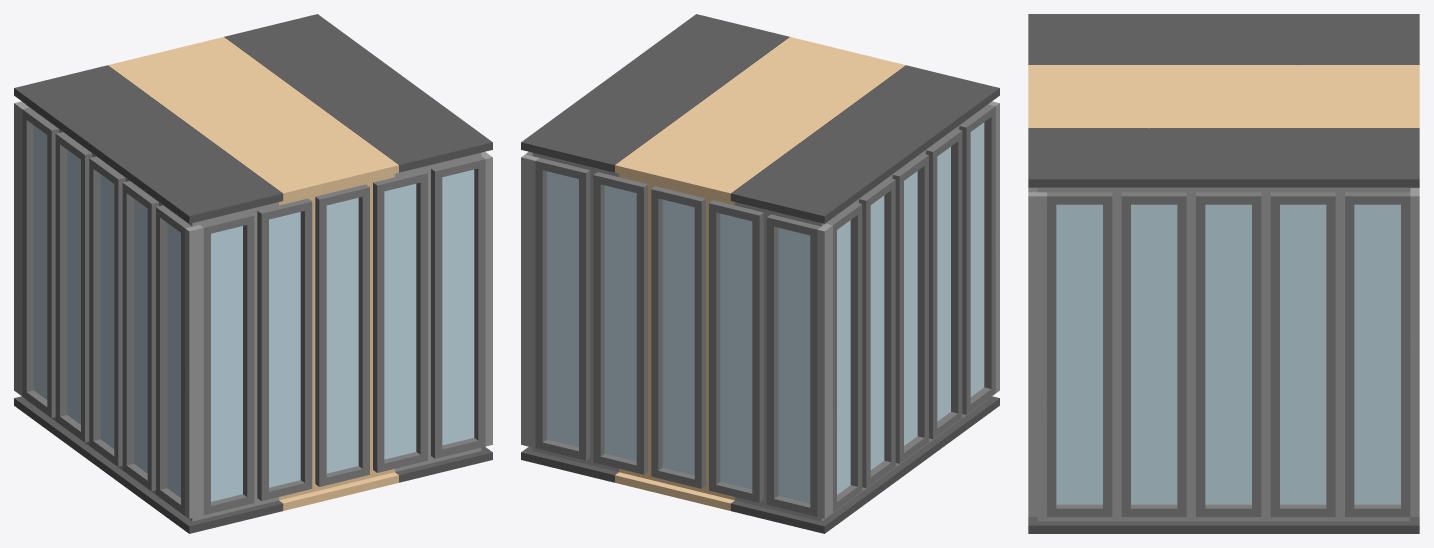
File: Tower_5.fbx
The picture shows the model from 3 angles, left to right: view 1: azimuth 30°, elevation 25°; view 2: azimuth 150°, elevation 25°; view 3: azimuth 270°, elevation 25°; orthographic projection. The views are drawn at different scales.
Parts seen in each view (by area): view 1: Box; view 2: Box; view 3: Box.
Part boxes in pixels (x1,y1,x2,y2): Box: [14, 14, 492, 533]; Box: [521, 14, 999, 533]; Box: [1028, 14, 1419, 533].
Bounding box in the file's own units: 42 × 42 × 42.
1 material, 1 textured.
